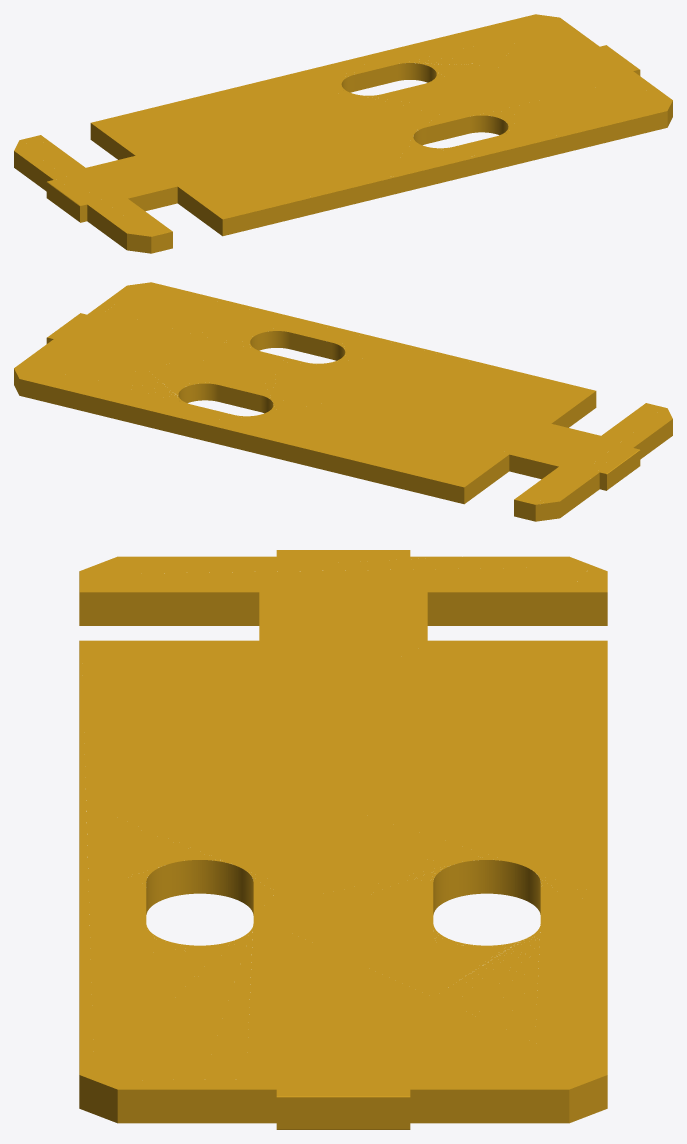
The model's file is asinma-krupp-hm-1500-side-wear-plate-02.glb.
The picture shows the model from 3 angles, top to bottom: view 1: azimuth 30°, elevation 25°; view 2: azimuth 150°, elevation 25°; view 3: azimuth 270°, elevation 25°; orthographic projection. The views are drawn at different scales.
Parts seen in each view (by area): view 1: body; view 2: body; view 3: body.
Part boxes in pixels (<box>): body: <box>14,14,672,253</box>; body: <box>14,282,672,521</box>; body: <box>79,550,607,1129</box>.
Bounding box in the file's own units: 0.676 × 0.0195 × 0.276.
